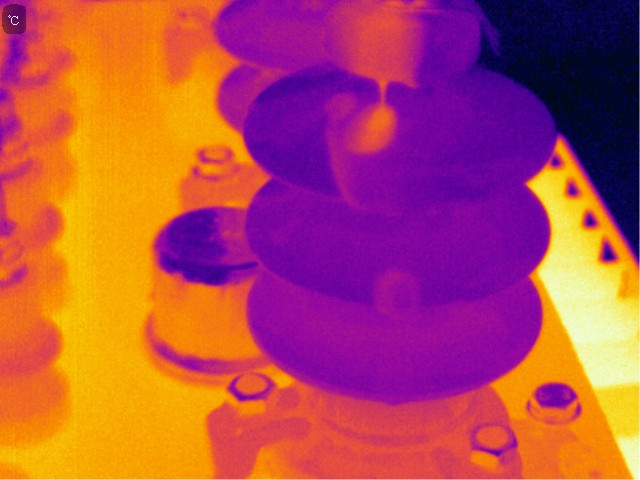Oil: (341, 1, 420, 91), (343, 100, 399, 156), (367, 264, 421, 319), (322, 122, 353, 206), (323, 90, 358, 116)
